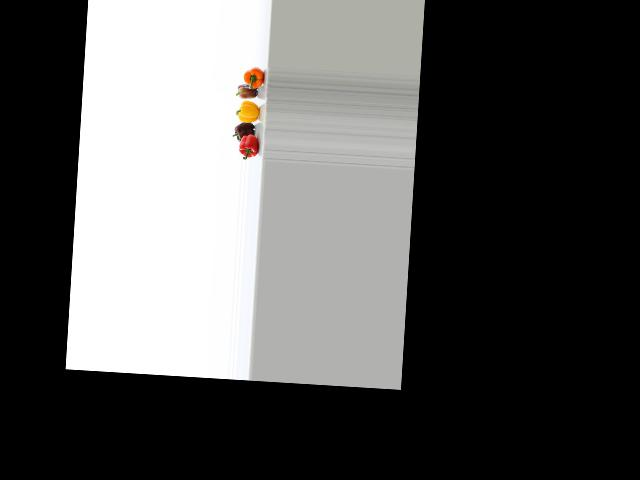bell_pepper: (236, 65, 267, 89)
